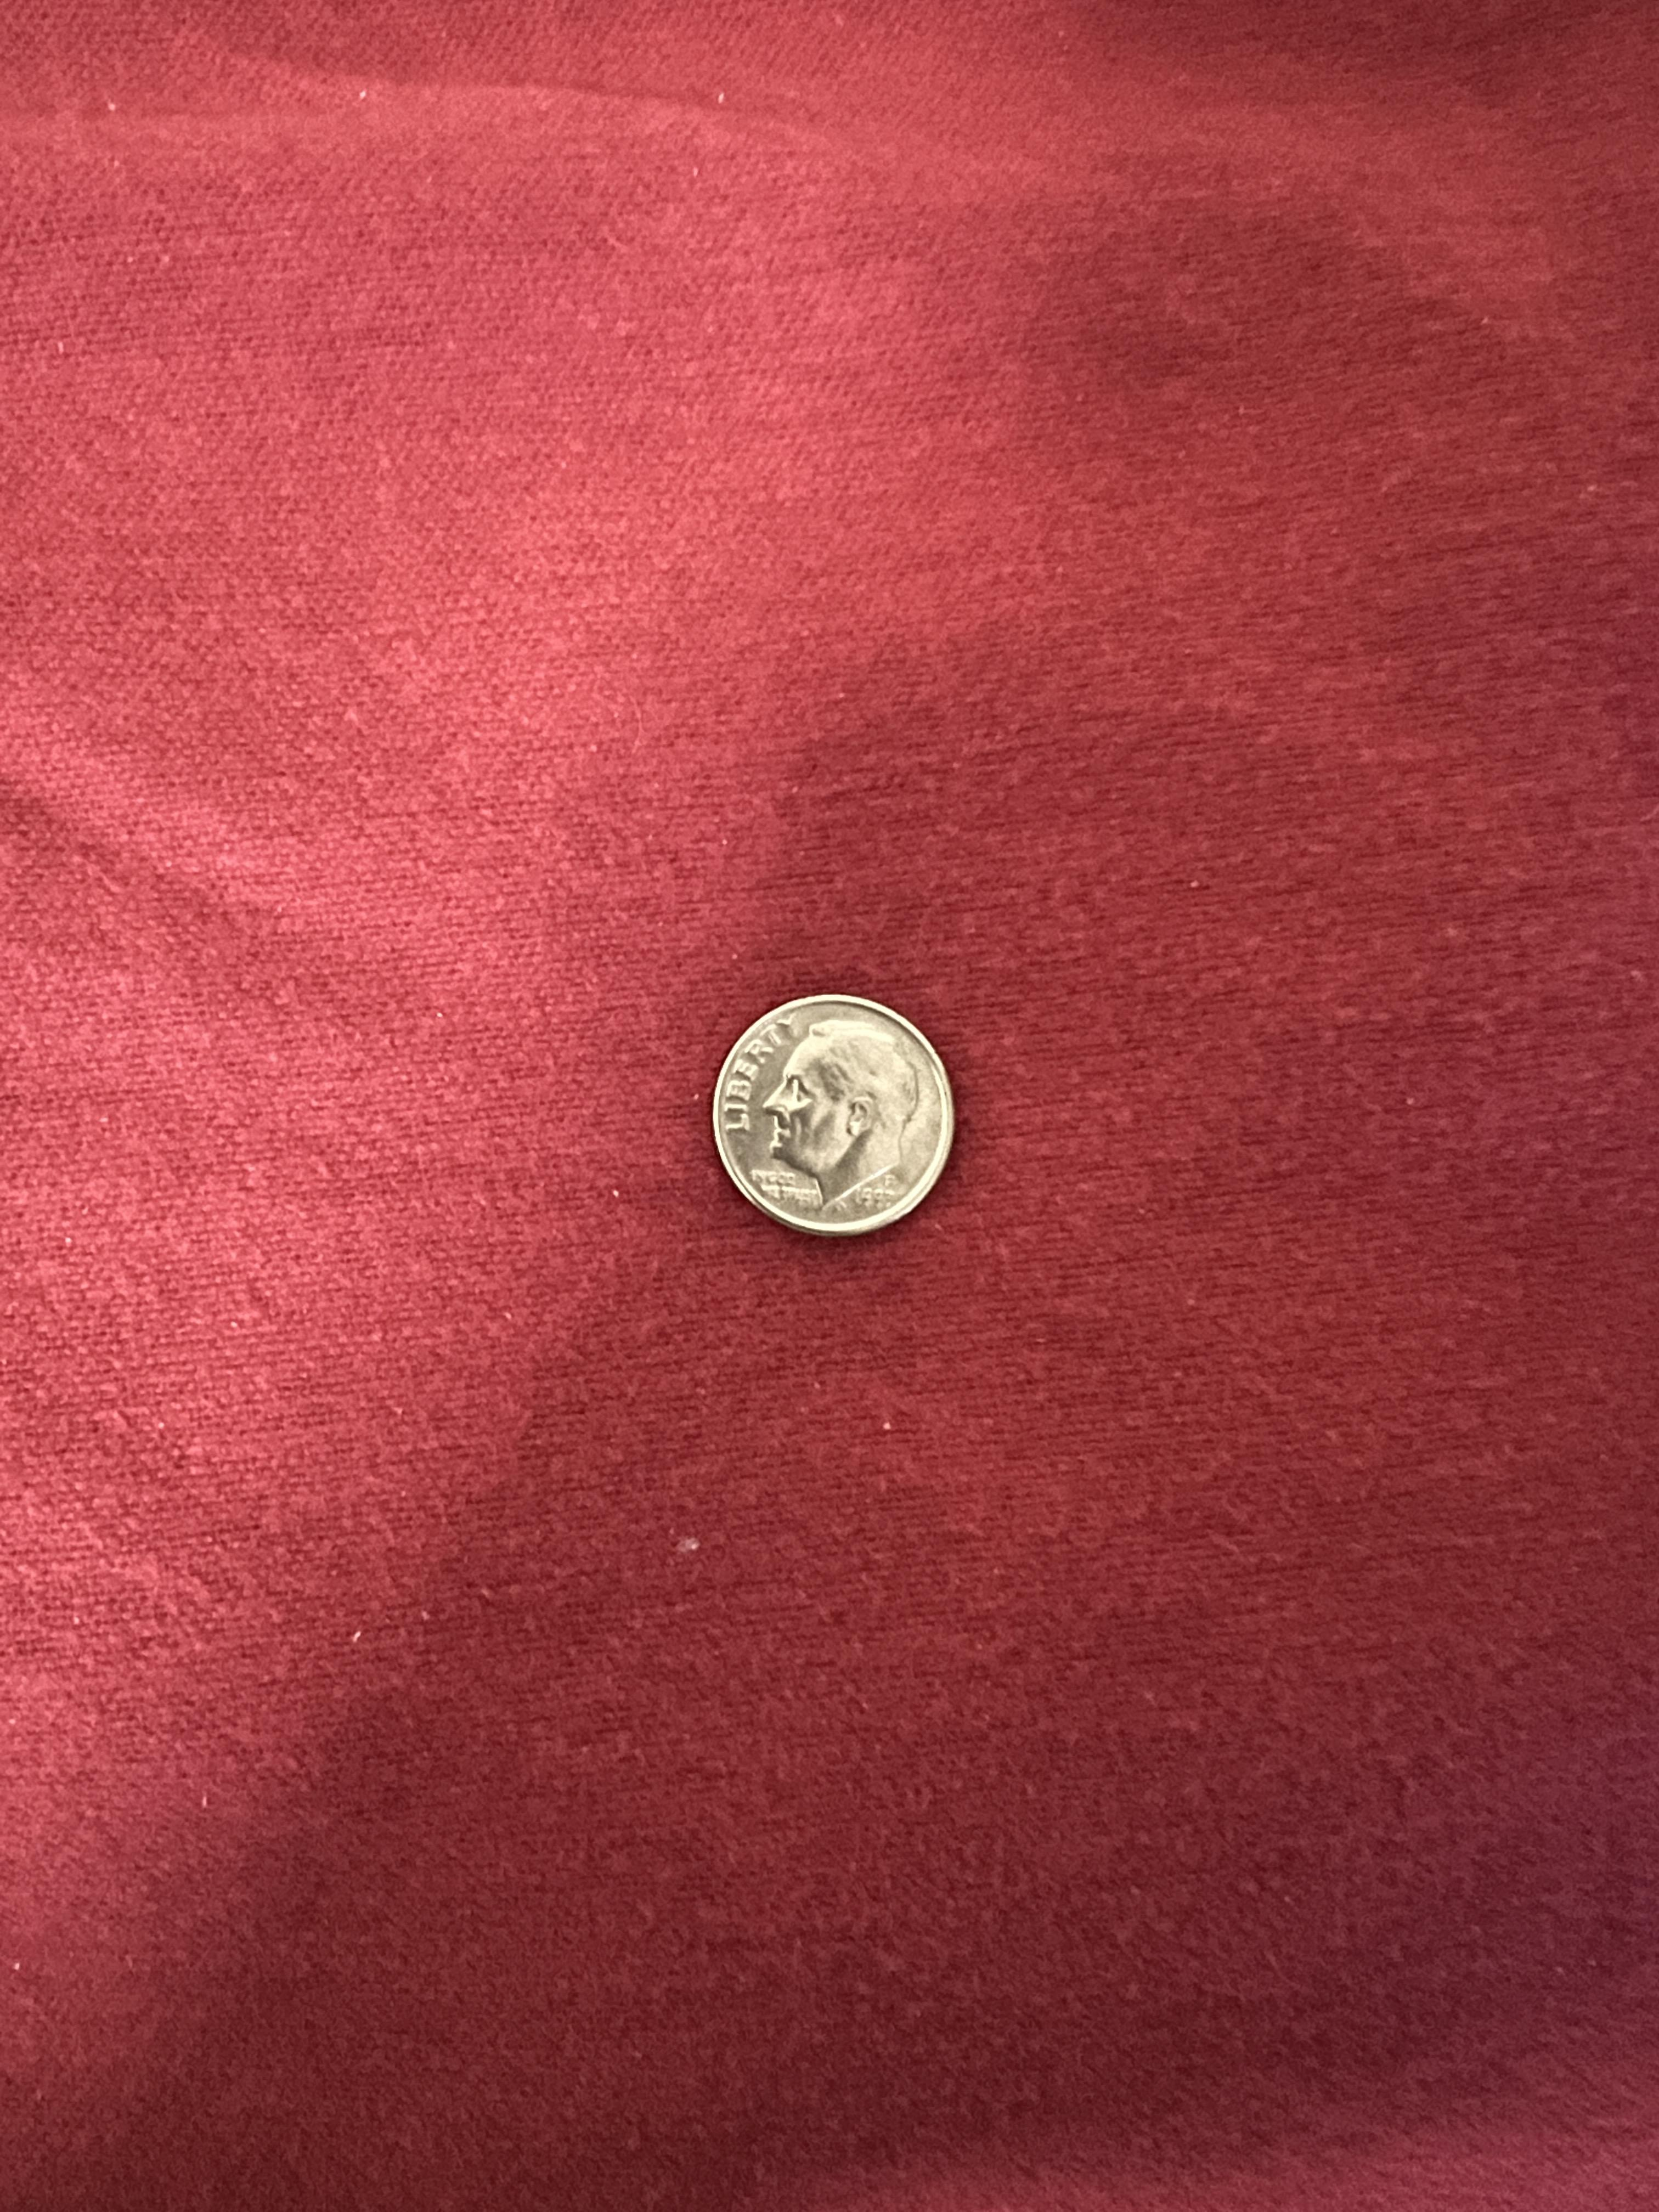Dime: (709, 986, 957, 1233)
